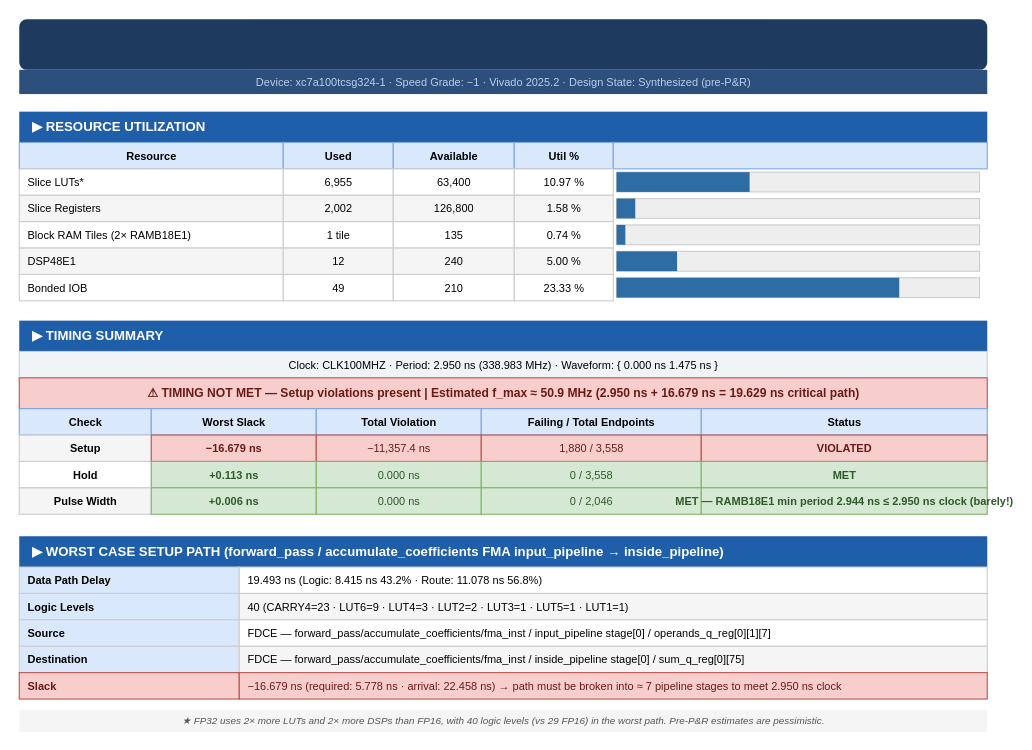
The diagram is 1032 pixels wide and 750 high, and some of its shapes have lost their labels. The box of each missing label's shape, as (x1, y1, x2, y2) in pixels:
FP32 — Polynomial Regression Synthesis Summary: (19, 19, 987, 69)
Usage Bar (full bar = 30 %): (612, 141, 987, 169)
